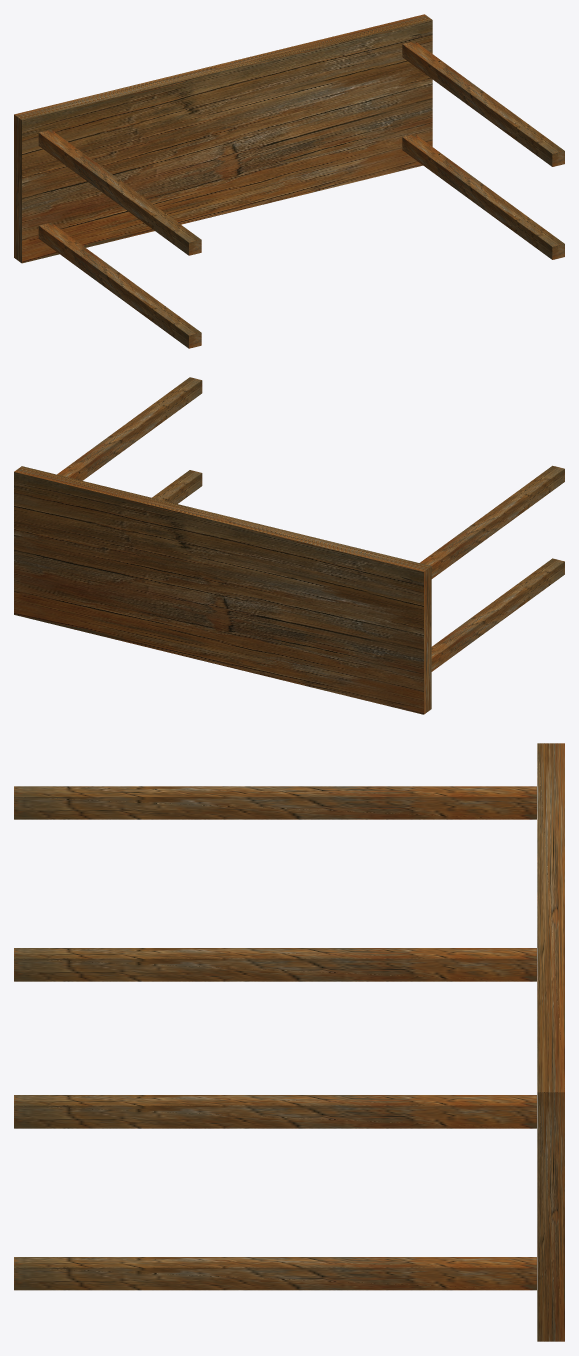
Rendered from table.dae.
3 views of the same model, one above another, from view 1: azimuth 30°, elevation 25°; view 2: azimuth 150°, elevation 25°; view 3: azimuth 270°, elevation 25° (orthographic). The views are drawn at different scales.
Parts seen in each view (by area): view 1: Box01, Box03, Box02, Box05, Box04; view 2: Box01, Box02, Box03, Box05, Box04; view 3: Box02, Box03, Box04, Box05, Box01.
Boxes of the visible parts, <box> form: Box01: <box>14,14,432,263</box>; Box03: <box>38,222,201,348</box>; Box02: <box>38,130,201,255</box>; Box05: <box>402,41,564,166</box>; Box04: <box>402,134,564,259</box>; Box01: <box>14,466,431,714</box>; Box02: <box>420,465,564,578</box>; Box03: <box>431,558,564,671</box>; Box05: <box>57,377,202,480</box>; Box04: <box>152,470,202,503</box>; Box02: <box>14,786,536,819</box>; Box03: <box>14,948,536,981</box>; Box04: <box>14,1257,536,1290</box>; Box05: <box>14,1095,536,1128</box>; Box01: <box>537,743,564,1341</box>.
Bounding box in the file's own units: 3 × 2 × 1.
1 material, 1 textured.
